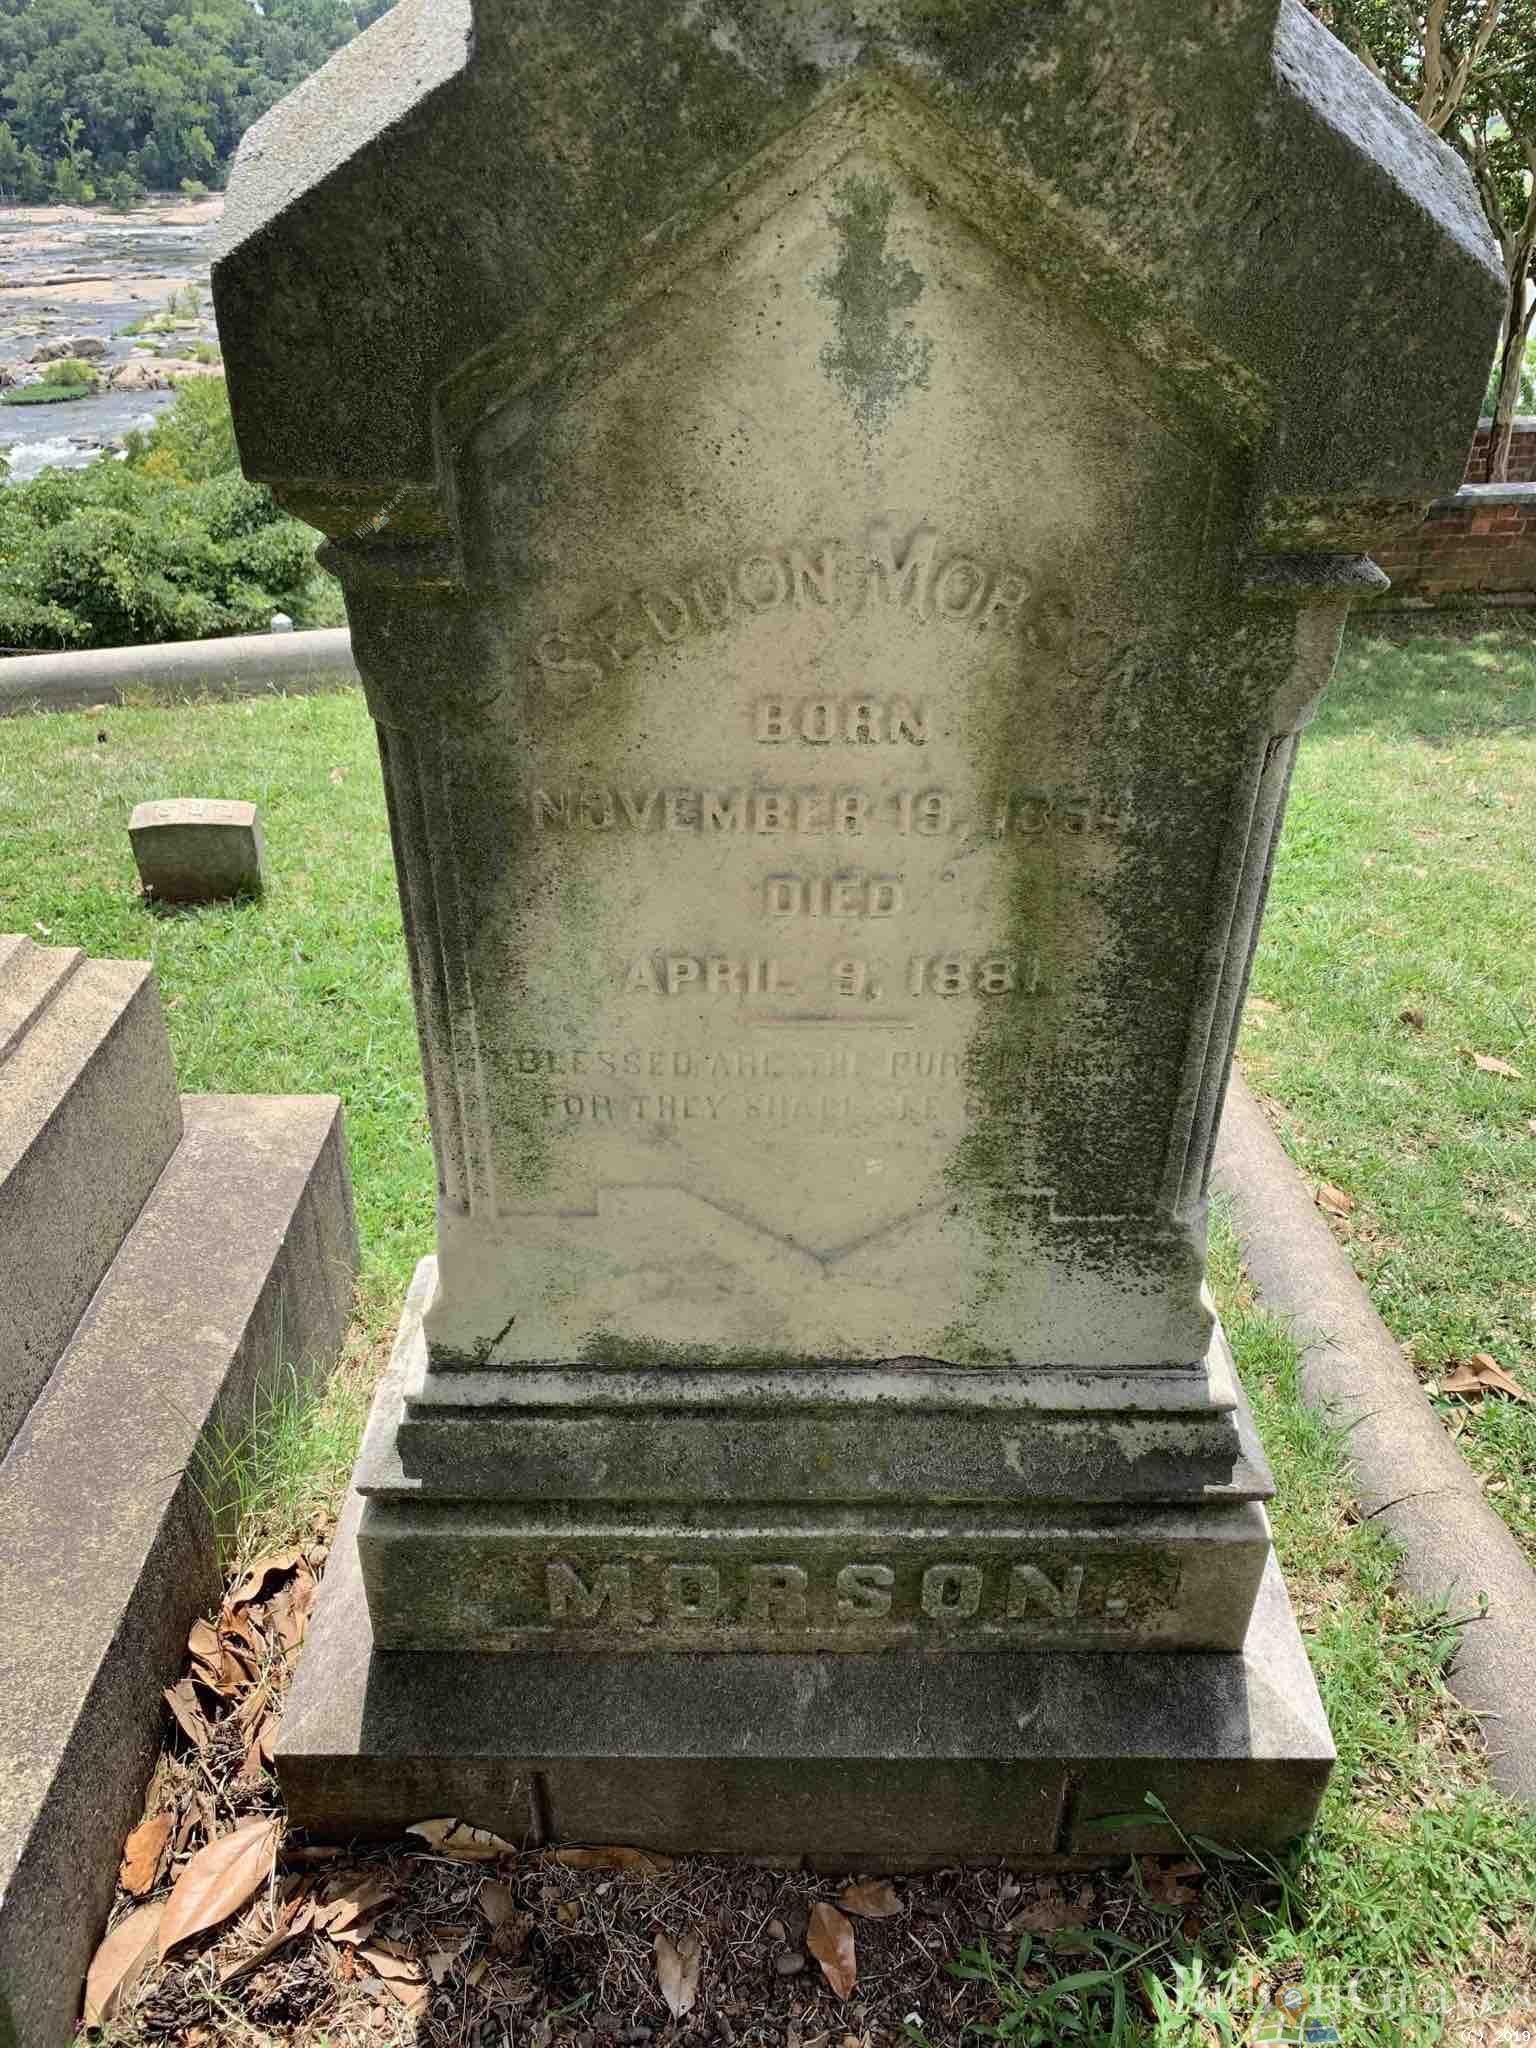obelisk: (207, 0, 1470, 1845)
